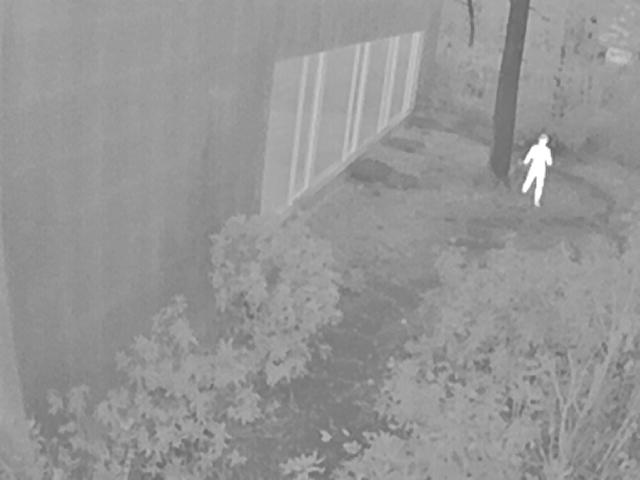person: (522, 133, 554, 206)
